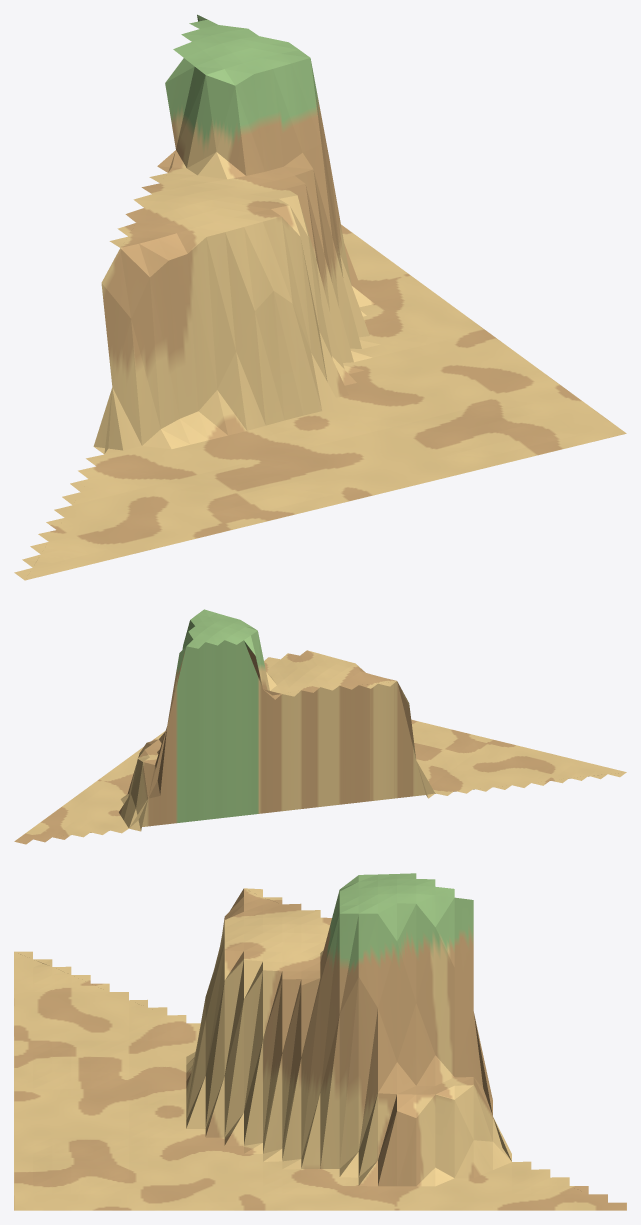
Rendered from Desert_Mountains_11_NE.obj.
The picture shows the model from 3 angles, top to bottom: view 1: azimuth 30°, elevation 25°; view 2: azimuth 150°, elevation 25°; view 3: azimuth 270°, elevation 25°; orthographic projection. The views are drawn at different scales.
Bounding box in the file's own units: 10 × 4.4 × 10.
Materials: 1 (1 with a texture image).
